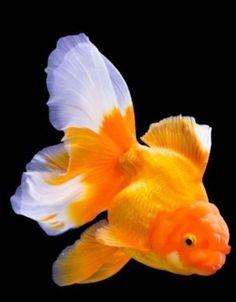goldfish: (25, 44, 233, 293)
